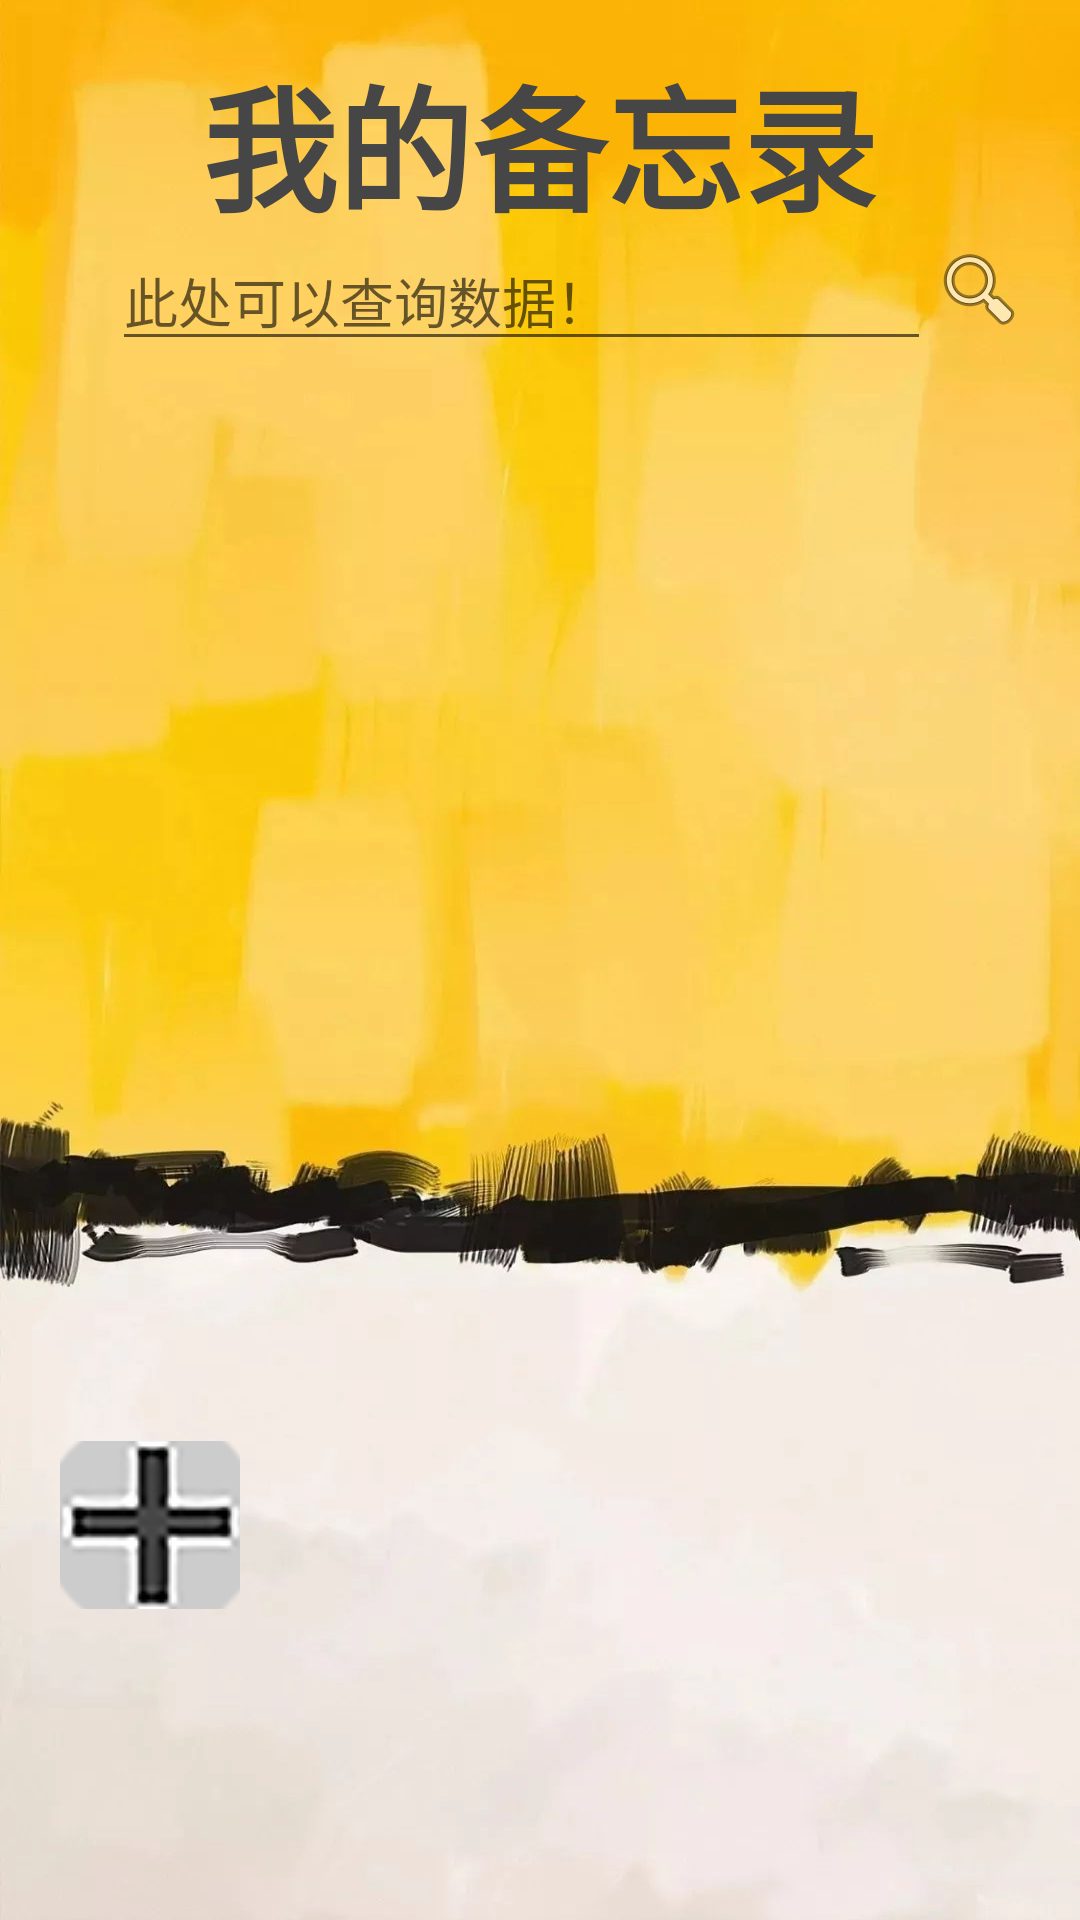

Where to tap for icons on this 1080*1920 app screen, as (x,y):
add: (150,1525)
search: (973,289)
